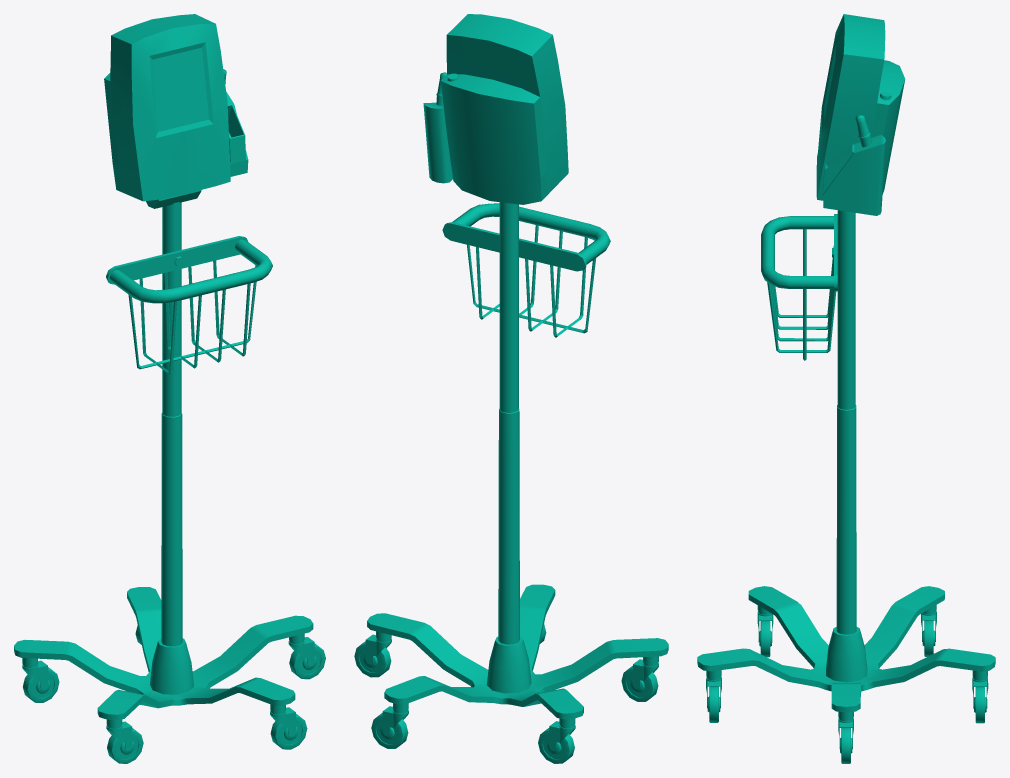
Rendered from Vitals.fbx.
3 renders of one model, left to right at view 1: azimuth 30°, elevation 25°; view 2: azimuth 150°, elevation 25°; view 3: azimuth 270°, elevation 25°, orthographic. The views are drawn at different scales.
Parts seen in each view (by area): view 1: VitalsMonitor, Screen; view 2: VitalsMonitor, Screen; view 3: VitalsMonitor, Screen.
Part boxes in pixels (x1,y1,x2,y2): VitalsMonitor: (14,202,325,763); Screen: (104,14,248,208); VitalsMonitor: (354,202,668,763); Screen: (423,14,568,204); VitalsMonitor: (697,210,995,763); Screen: (816,14,905,215).
Size of the model in its own units: 183 by 449 by 181.
